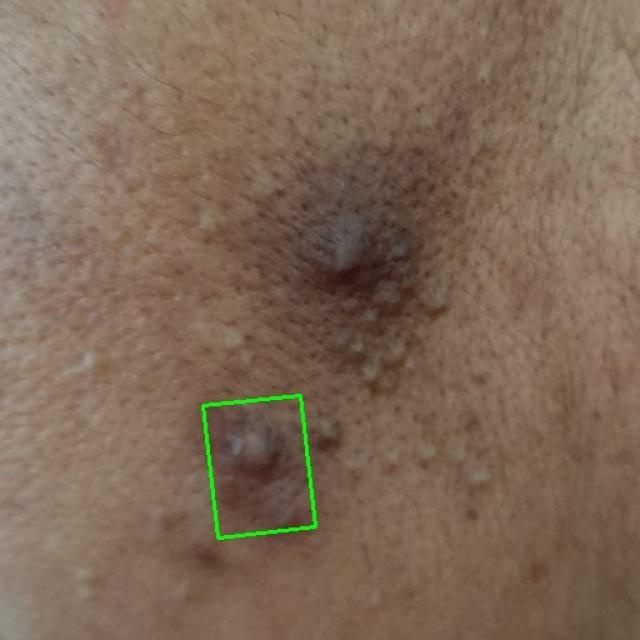Tinea Corporis: (203, 395, 315, 538)
